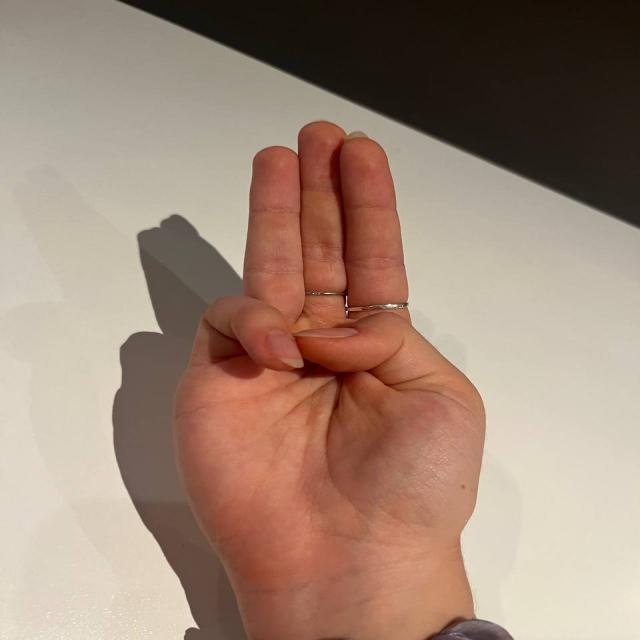sh: (171, 107, 480, 513)
